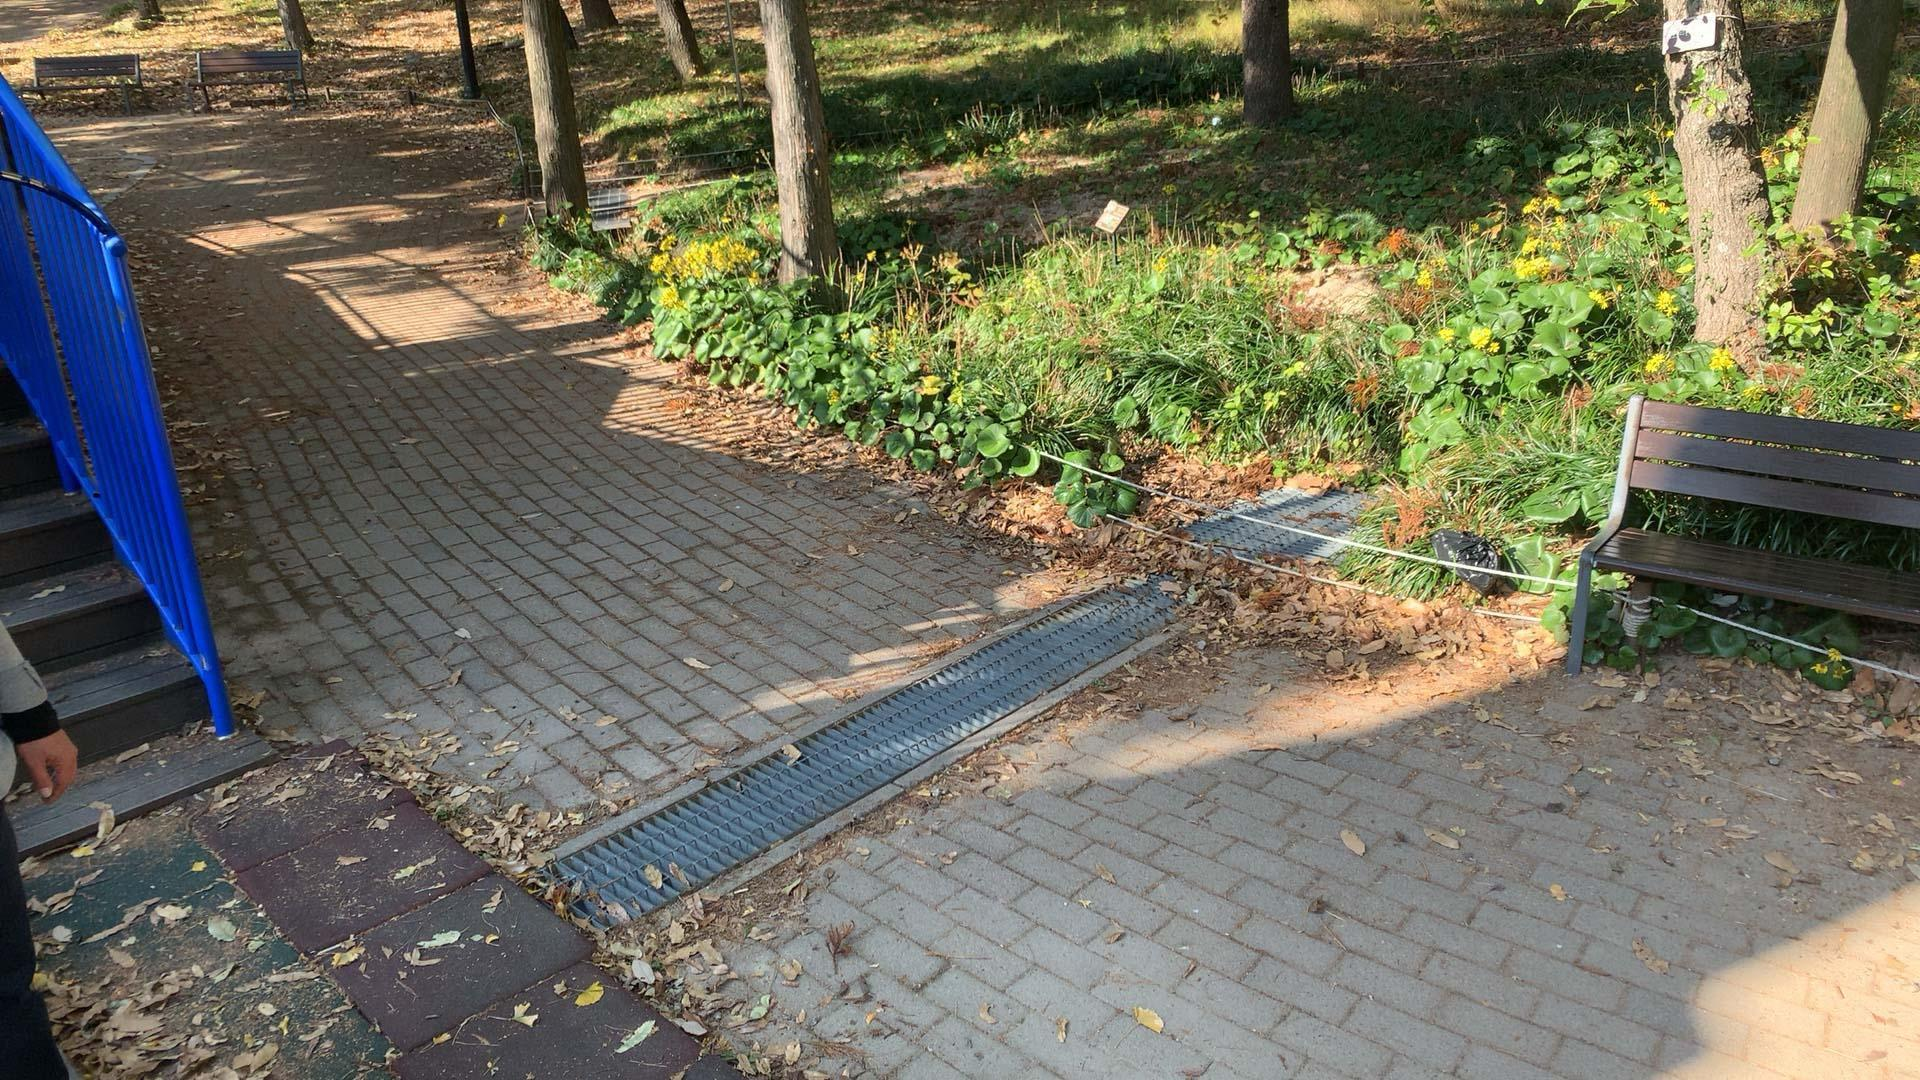black_bag: (1423, 527, 1507, 593)
